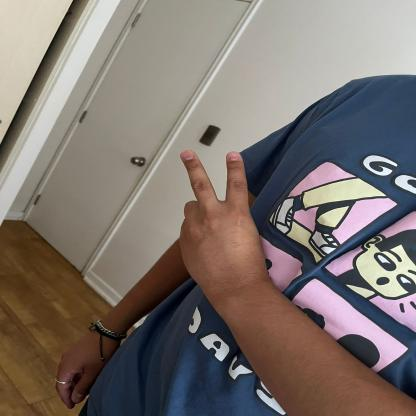V: (172, 145, 262, 292)
